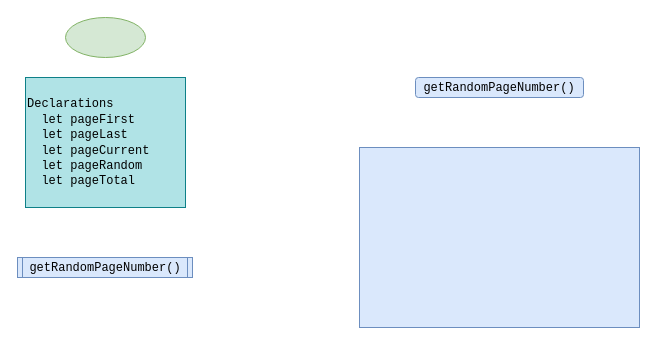
Some shapes in this 657 by 345 pixel diagram are drawn without their labels. Here are the shapes that lost their labels. From the top down, the centre of each, then its label:
point (105, 37): start
point (499, 237): function getRandomNumber()
